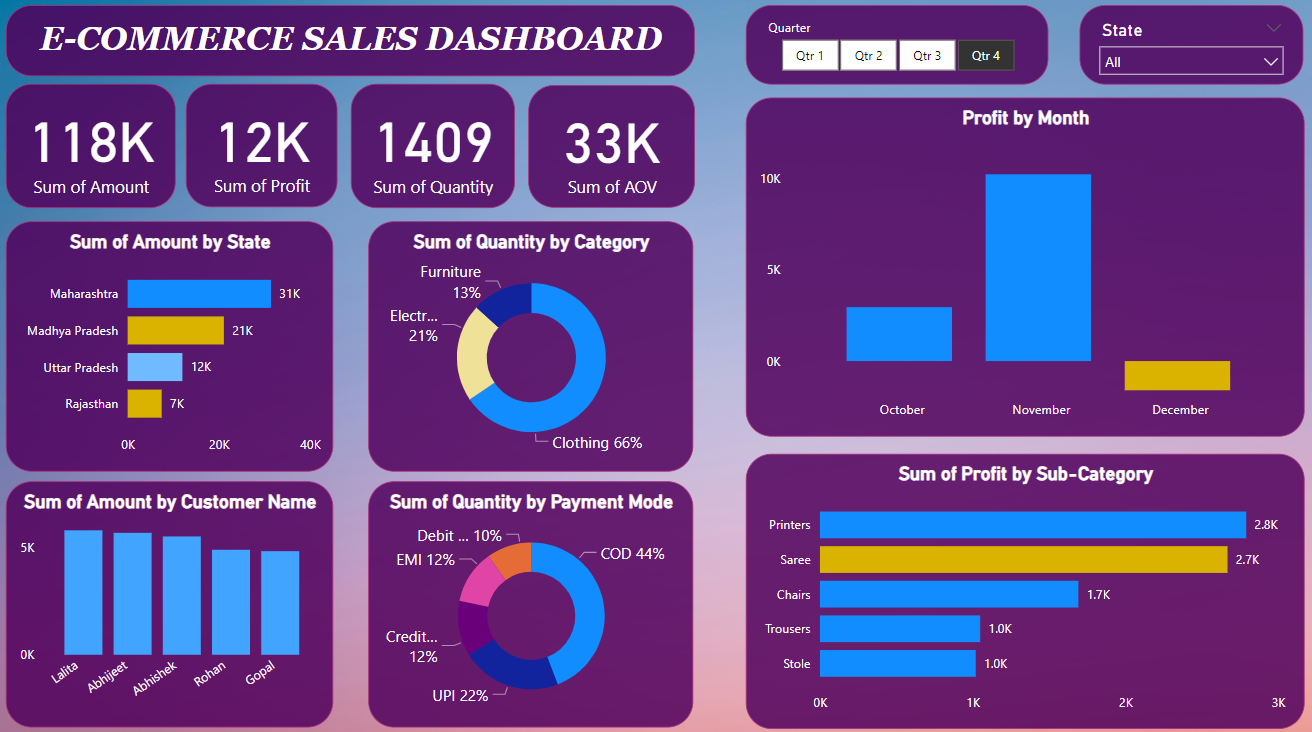

Layout of this report page (visuals, bound fields, positions):
{"tool":"powerbi","page":{"name":"Page 1","canvas":[1280,720],"ordinal":0},"visuals":[{"type":"textbox","box":[13.3,14.5,664.5,68.7],"z":0},{"type":"columnChart","title":"Profit by Month","fields":{"Category":["Orders.Order Date.Variation.Date Hierarchy.Month"],"Y":["Sum(Details.Profit)"]},"box":[727.2,103.7,539.1,326.8],"z":1000},{"type":"barChart","fields":{"Category":["Details.Sub-Category"],"Y":["Sum(Details.Profit)"]},"box":[726,445,539.1,266.5],"z":2000},{"type":"donutChart","fields":{"Category":["Details.Category"],"Y":["Sum(Details.Quantity)"]},"box":[363,223.1,313.6,241.2],"z":3000},{"type":"donutChart","title":"Sum of Quantity by Payment Mode","fields":{"Y":["Sum(Details.Quantity)"],"Category":["Details.PaymentMode"]},"box":[362.5,473.9,313.6,238.6],"z":4000},{"type":"card","fields":{"Values":["Sum(Details.Amount)"]},"box":[13,91,164,120],"z":5000},{"type":"card","fields":{"Values":["Sum(Details.Quantity)"]},"box":[346,90,158,120],"z":6000},{"type":"card","fields":{"Values":["Sum(Details.Profit)"]},"box":[187,91,146,119],"z":7000},{"type":"card","fields":{"Values":["Sum(Details.AOV)"]},"box":[517,92,161,118],"z":8000},{"type":"barChart","fields":{"Category":["Orders.State"],"Y":["Sum(Details.Amount)"]},"box":[13.3,223.1,316,241.2],"z":9000},{"type":"columnChart","title":"Sum of Amount by Customer Name","fields":{"Category":["Orders.CustomerName"],"Y":["Sum(Details.Amount)"]},"box":[13.6,473.9,315.9,238.6],"z":10000},{"type":"slicer","fields":{"Values":["Orders.Order Date.Variation.Date Hierarchy.Quarter"]},"box":[727.2,14.5,291.9,77.2],"z":11000},{"type":"slicer","fields":{"Values":["Orders.State"]},"box":[1049.2,14.5,215.9,77.2],"z":12000}]}

Visuals, with their boxes in screenshot pixels (x1, y1, x2, y2), scaled from the page's 1280x720 canvas onto the 1312x732 screenshot:
textbox: select_region(14, 15, 695, 85)
"Profit by Month" columnChart: select_region(745, 105, 1298, 438)
barChart - Details.Sub-Category x Sum(Details.Profit): select_region(744, 452, 1297, 723)
donutChart - Details.Category x Sum(Details.Quantity): select_region(372, 227, 694, 472)
"Sum of Quantity by Payment Mode" donutChart: select_region(372, 482, 693, 724)
card - Sum(Details.Amount): select_region(13, 93, 181, 215)
card - Sum(Details.Quantity): select_region(355, 92, 517, 214)
card - Sum(Details.Profit): select_region(192, 93, 341, 214)
card - Sum(Details.AOV): select_region(530, 94, 695, 214)
barChart - Orders.State x Sum(Details.Amount): select_region(14, 227, 338, 472)
"Sum of Amount by Customer Name" columnChart: select_region(14, 482, 338, 724)
slicer - Orders.Order Date.Variation.Date Hierarchy.Quarter: select_region(745, 15, 1045, 93)
slicer - Orders.State: select_region(1075, 15, 1297, 93)
